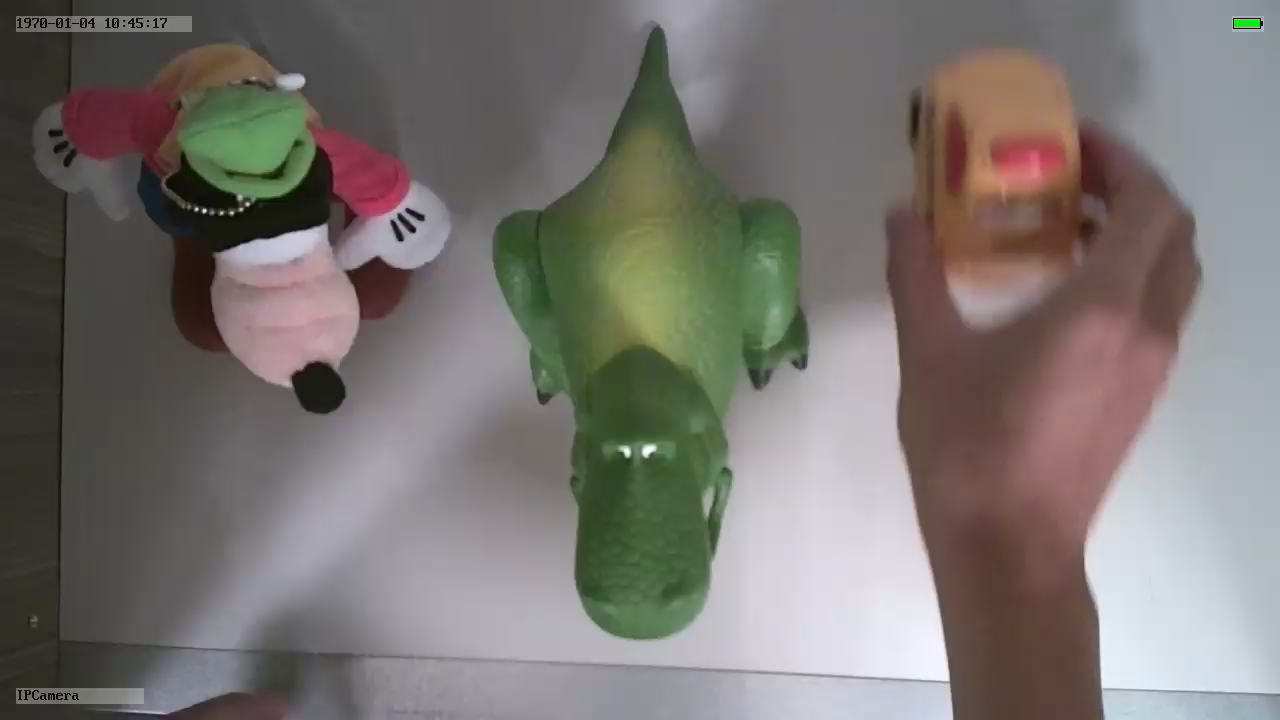goofy: (29, 41, 456, 419)
